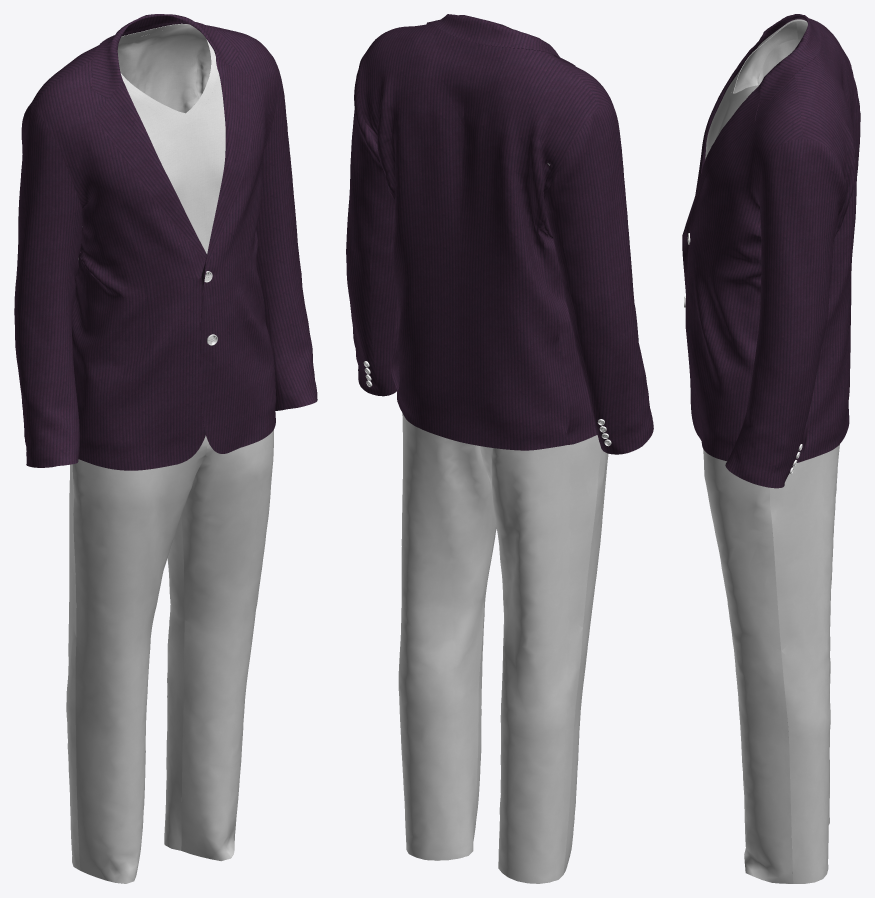
The picture shows the model from 3 angles, left to right: view 1: azimuth 30°, elevation 25°; view 2: azimuth 150°, elevation 25°; view 3: azimuth 270°, elevation 25°; orthographic projection. The views are drawn at different scales.
Parts seen in each view (by area): view 1: Body_Front (×2), Pattern_3489167, Body_Back, Collar, Ribbing_1; view 2: Body_Front, Pattern_3489167, Collar; view 3: Body_Front (×2), Pattern_3489167, Collar, Ribbing_1.
Part boxes in pixels (x1,y1,x2,y2): Body_Front (×2): (14, 22, 317, 470); Pattern_3489167: (66, 430, 273, 883); Body_Back: (78, 25, 210, 259); Collar: (91, 14, 239, 98); Ribbing_1: (119, 23, 218, 124); Body_Front: (346, 24, 653, 454); Pattern_3489167: (398, 413, 608, 883); Collar: (426, 14, 575, 66); Body_Front (×2): (682, 18, 860, 488); Pattern_3489167: (703, 444, 839, 883); Collar: (759, 14, 820, 102); Ribbing_1: (728, 20, 806, 102).
Size of the model in its own units: 55.94 by 158 by 30.93.
10 materials, 9 textured.
